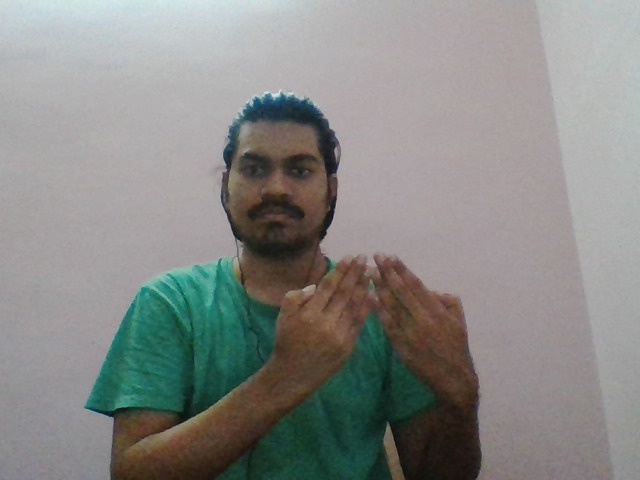ThankYou: (269, 246, 481, 398)
